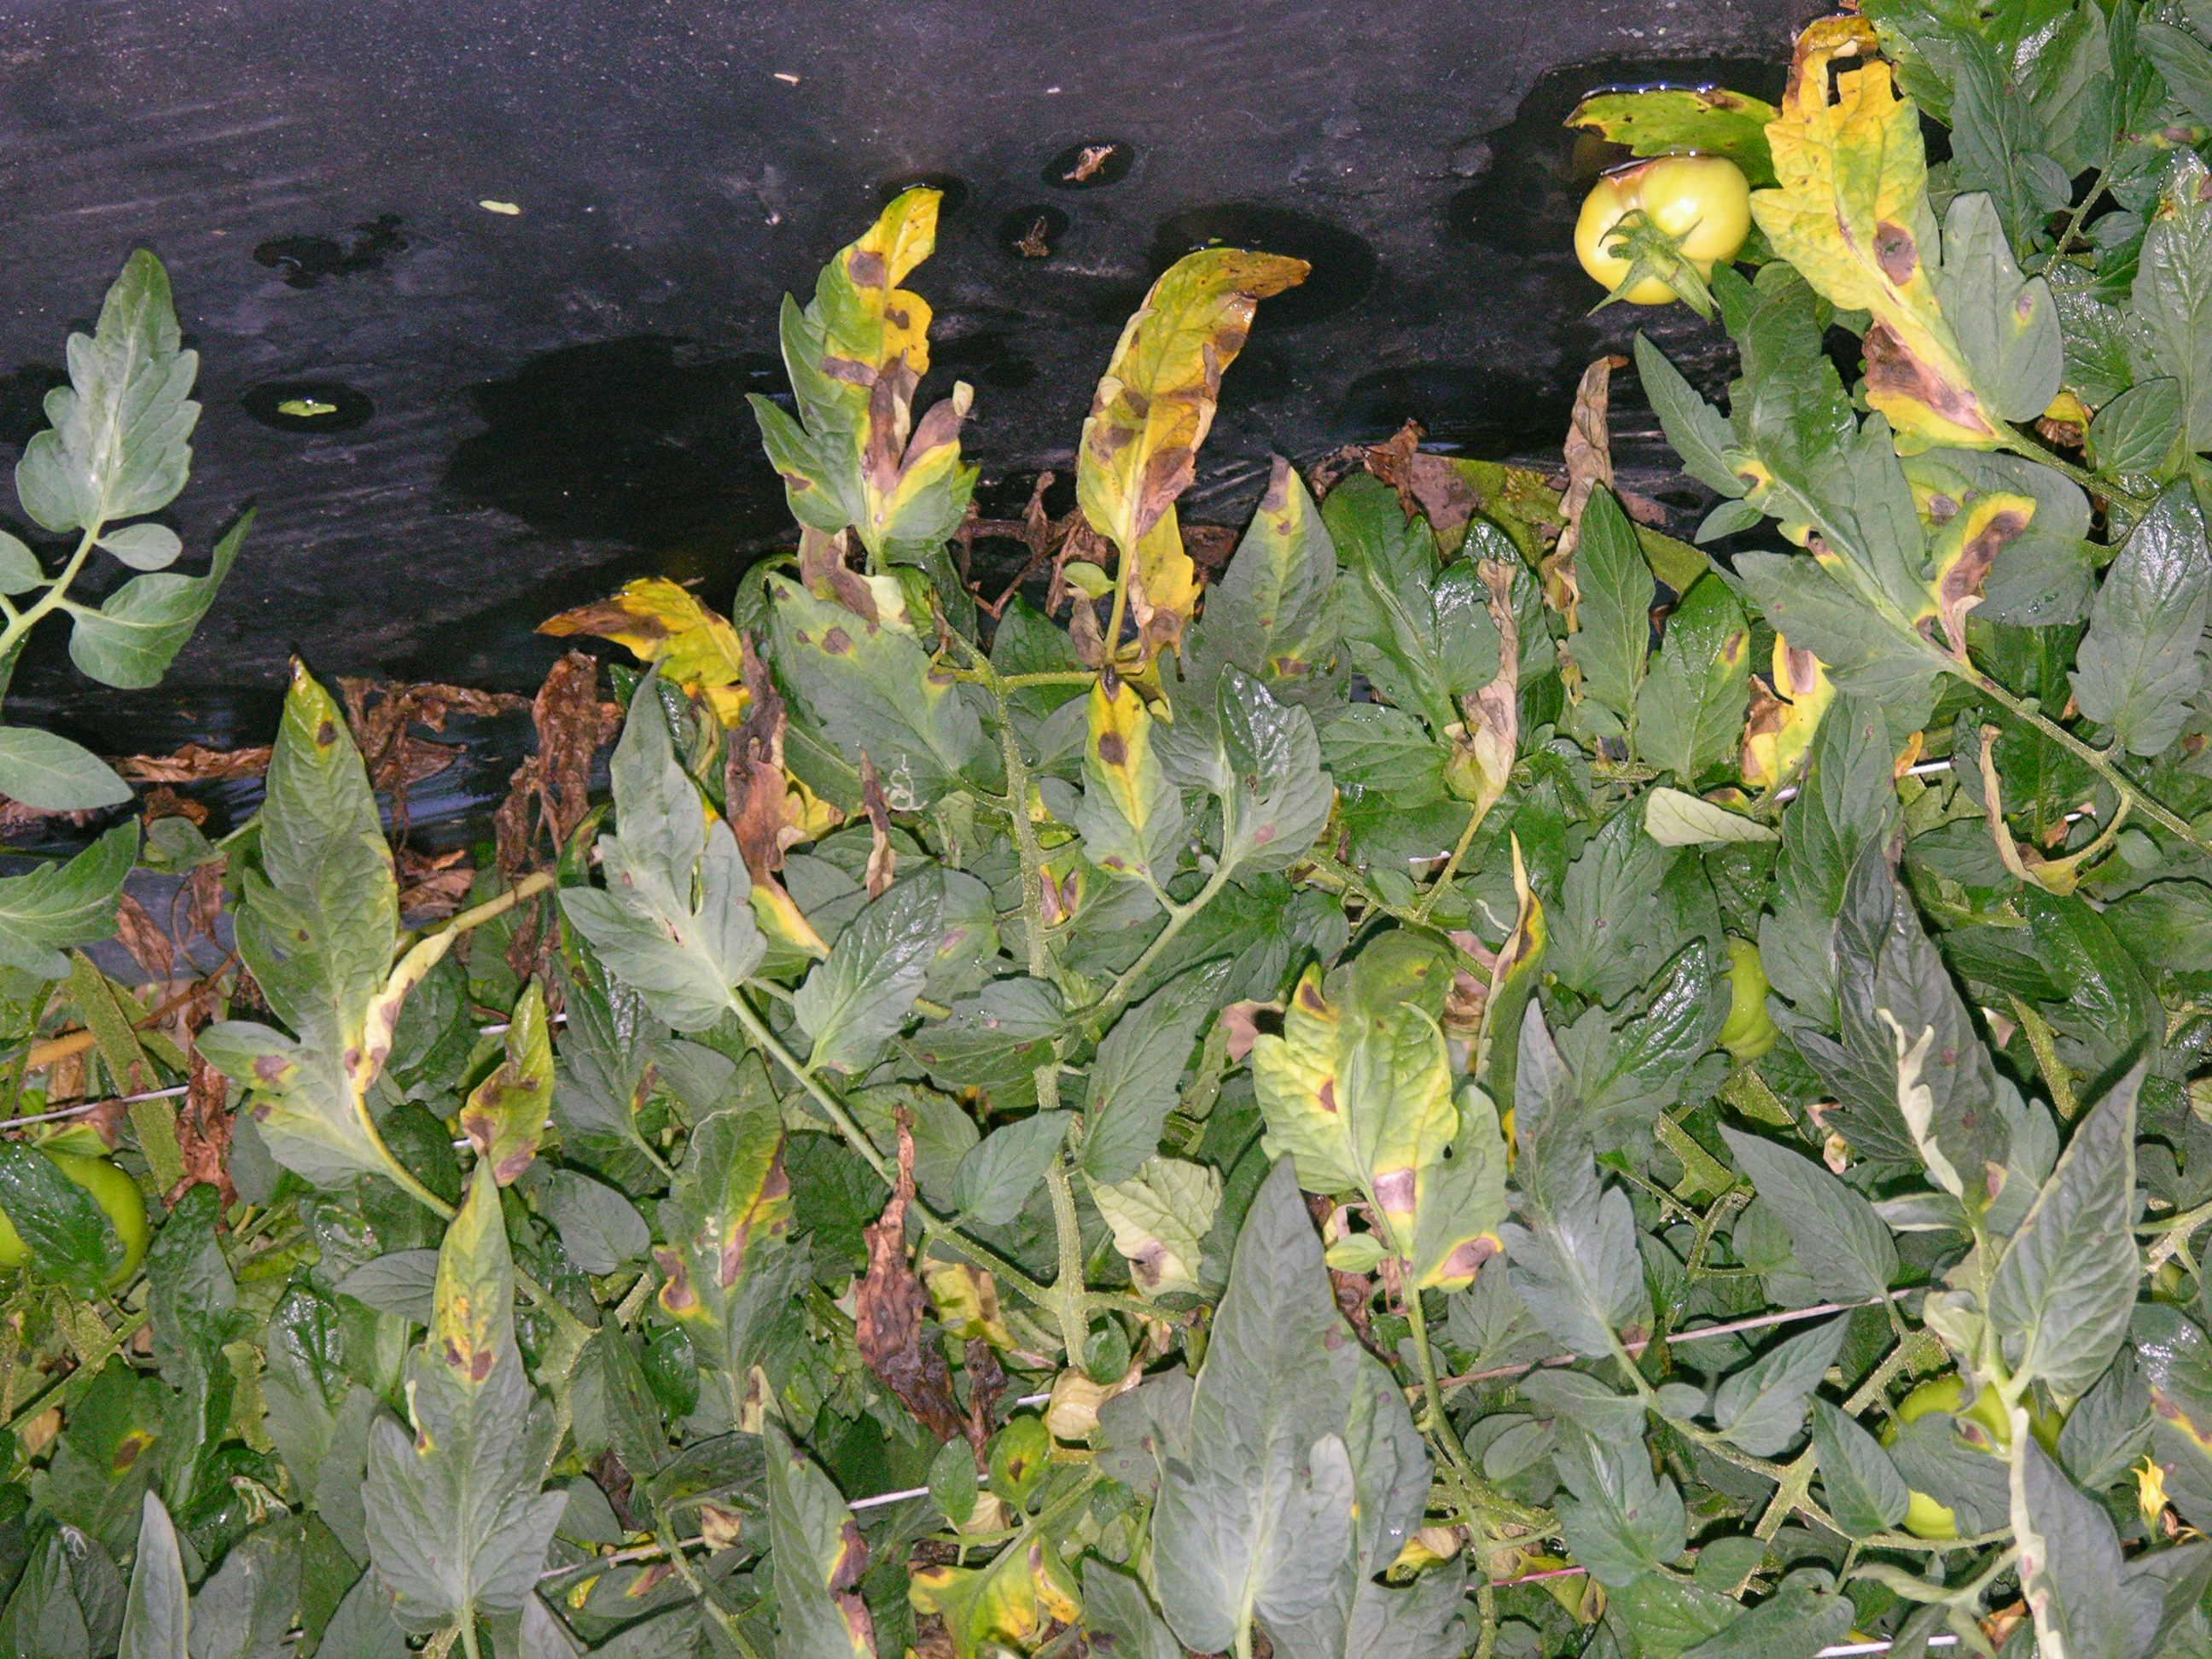Tomato leaf: (1780, 44, 2074, 477), (207, 652, 420, 1236), (350, 1166, 601, 1657), (1047, 155, 1313, 592), (777, 155, 986, 558), (662, 1051, 826, 1424), (17, 251, 225, 544), (1249, 945, 1474, 1182), (2001, 1070, 2146, 1396), (1061, 948, 1238, 1180), (907, 1427, 1109, 1629), (1615, 535, 1771, 788), (2071, 472, 2212, 753), (1508, 979, 1615, 1351), (791, 852, 956, 1080), (1721, 1126, 1878, 1297), (1083, 664, 1191, 910), (444, 995, 570, 1190), (1705, 1302, 1869, 1443)
